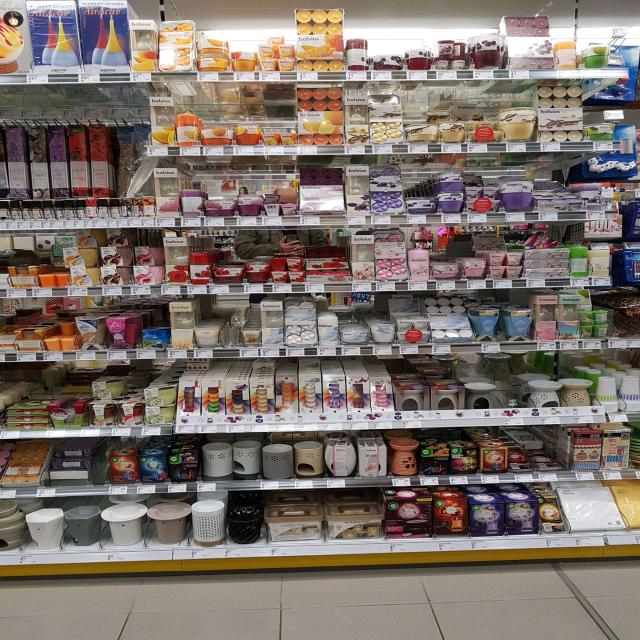unorganised: (47, 451, 90, 478), (524, 441, 562, 469), (56, 319, 70, 336)
